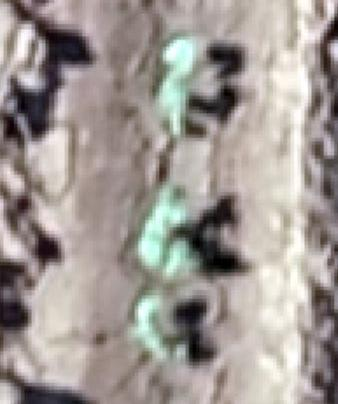cotton: (138, 301, 164, 352), (151, 188, 185, 224), (159, 81, 184, 128), (166, 242, 197, 274), (139, 225, 162, 268), (166, 41, 192, 70)
